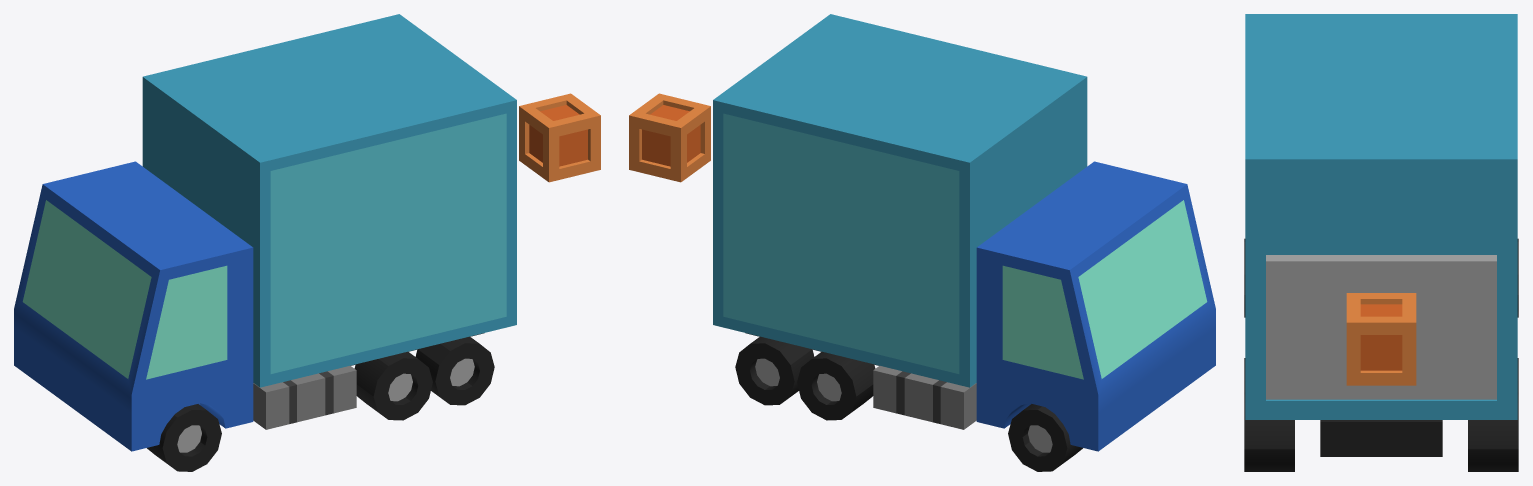
File: Delivery.fbx
3 views of the same model, side by side, from view 1: azimuth 30°, elevation 25°; view 2: azimuth 150°, elevation 25°; view 3: azimuth 270°, elevation 25° (orthographic). The views are drawn at different scales.
Parts seen in each view (by area): view 1: Truck, Wheels, Crate; view 2: Truck, Wheels, Crate; view 3: Truck, Truck_Door, Crate, Wheels.
Part boxes in pixels (x1=…): Truck: x1=14, y1=14, x2=516, y2=451; Wheels: x1=147, y1=336, x2=494, y2=471; Crate: x1=519, y1=93, x2=600, y2=182; Truck: x1=713, y1=14, x2=1215, y2=451; Wheels: x1=735, y1=336, x2=1082, y2=471; Crate: x1=629, y1=93, x2=710, y2=182; Truck: x1=1245, y1=14, x2=1517, y2=456; Truck_Door: x1=1266, y1=255, x2=1496, y2=399; Crate: x1=1346, y1=293, x2=1416, y2=385; Wheels: x1=1244, y1=238, x2=1518, y2=471.
Size of the model in its own units: 19.74 by 10.75 by 7.89.
